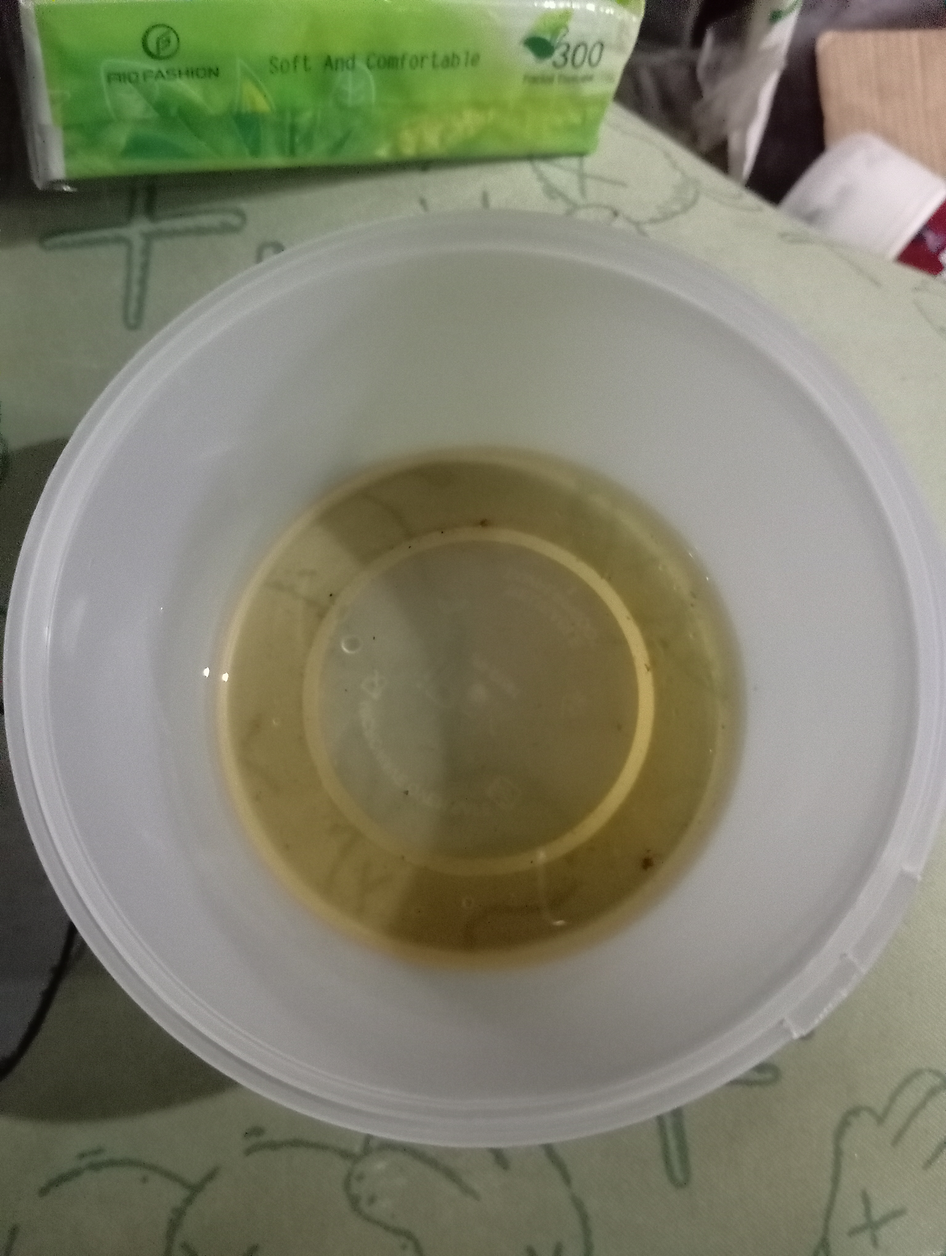reusable: (192, 444, 757, 963)
